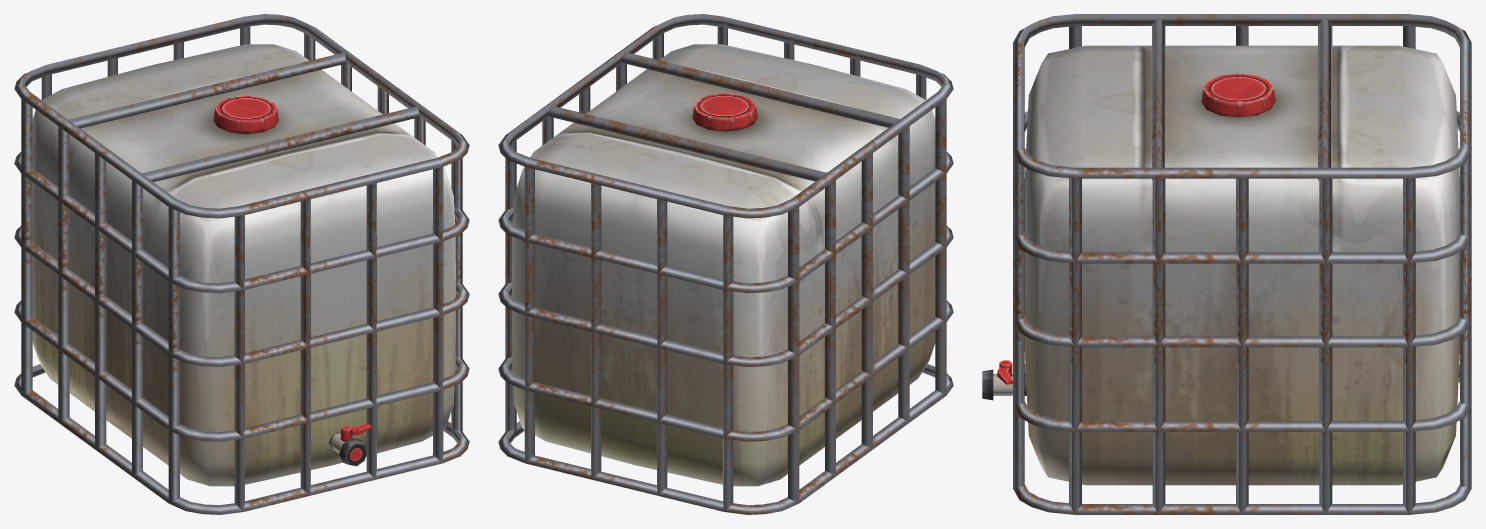
Rendered from waterStorage.fbx.
The picture shows the model from 3 angles, left to right: view 1: azimuth 30°, elevation 25°; view 2: azimuth 150°, elevation 25°; view 3: azimuth 270°, elevation 25°; orthographic projection. The views are drawn at different scales.
Parts seen in each view (by area): view 1: waterStorage; view 2: waterStorage; view 3: waterStorage.
Part boxes in pixels (bbox=[...]): waterStorage: bbox=[14, 14, 469, 514]; waterStorage: bbox=[498, 14, 953, 514]; waterStorage: bbox=[982, 14, 1471, 514].
Size of the model in its own units: 104 by 105 by 132.
